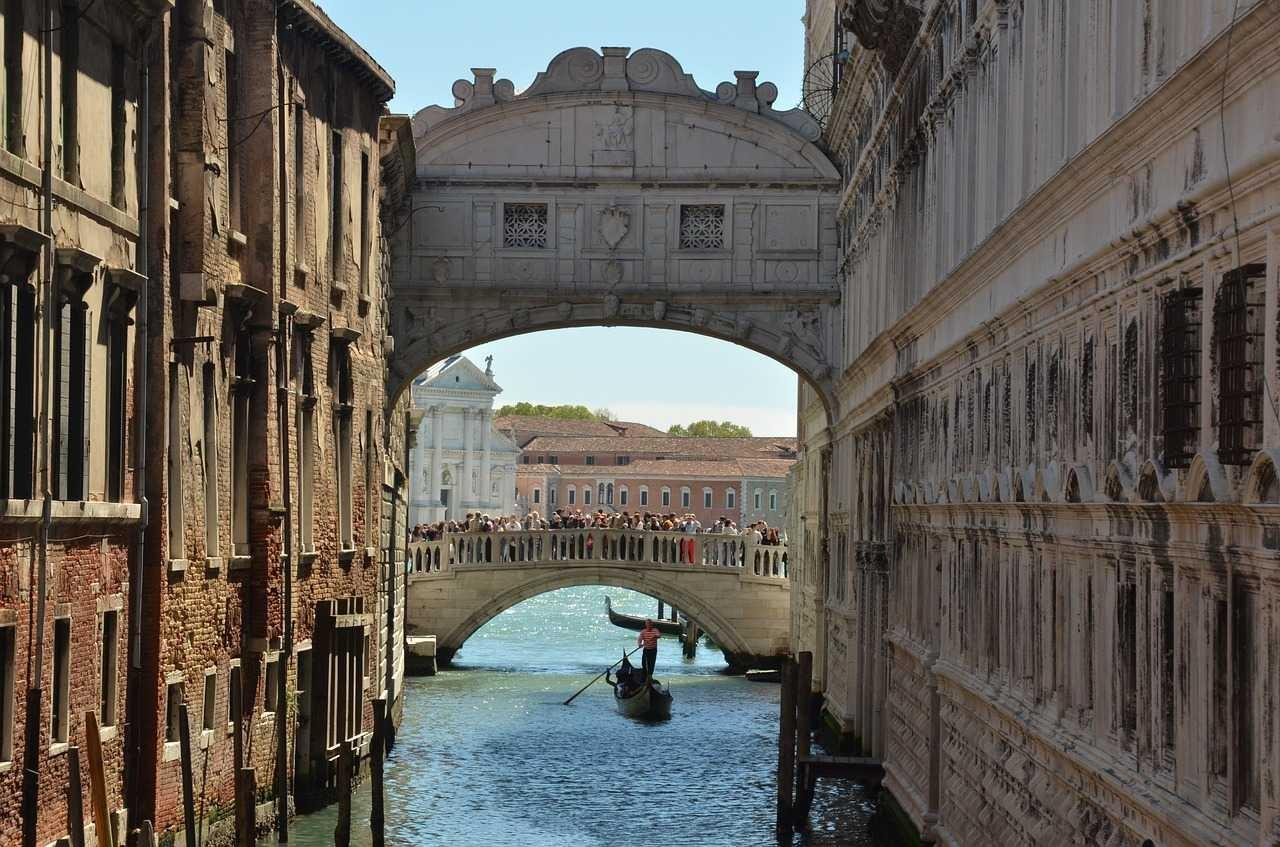kayak: (610, 661, 673, 722), (745, 669, 782, 683)
